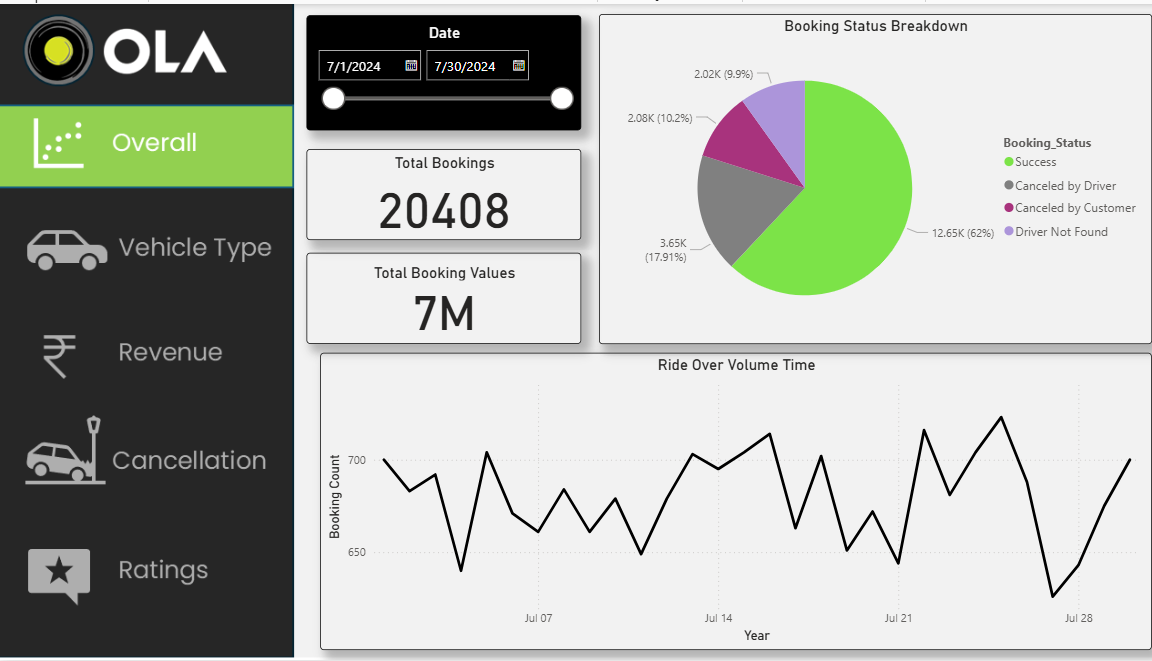

The dashboard page shown, as its layout file describes it:
{"tool":"powerbi","page":{"name":"Overall","canvas":[1280,720],"ordinal":0},"visuals":[{"type":"actionButton","box":[0,203.7,325.3,111.2],"z":0},{"type":"actionButton","box":[0,331.5,325.3,101.8],"z":1000},{"type":"actionButton","box":[0,450,325.3,115.4],"z":2000},{"type":"actionButton","box":[0,565.4,325.3,112.2],"z":3000},{"type":"lineChart","title":"Ride Over Volume Time","fields":{"Y":["CountNonNull(July.Booking_ID)"],"Category":["July.Date.Variation.Date Hierarchy.Year","July.Date.Variation.Date Hierarchy.Quarter","July.Date.Variation.Date Hierarchy.Month","July.Date.Variation.Date Hierarchy.Day"]},"box":[352.3,382.6,912.8,326.7],"z":4000},{"type":"pieChart","title":"Booking Status Breakdown","fields":{"Category":["July.Booking_Status"],"Y":["CountNonNull(July.Booking_Status)"]},"box":[658.1,10.5,607,362.8],"z":5000},{"type":"slicer","title":"Date","fields":{"Values":["July.Date"]},"box":[337.6,12.3,301.9,126.2],"z":6000},{"type":"card","title":"Total Bookings","fields":{"Values":["Count(July.Booking_ID)"]},"box":[337.6,159.2,301.9,100.2],"z":7000},{"type":"card","title":" Total Booking Values","fields":{"Values":["Sum(July.Booking_Value)"]},"box":[337.6,273.1,301.9,100.2],"z":8000}]}

Visuals, with their boxes in screenshot pixels (x1, y1, x2, y2), scaled from the page's 1280x720 canvas onto the 1152x661 screenshot:
actionButton: [0, 187, 293, 289]
actionButton: [0, 304, 293, 398]
actionButton: [0, 413, 293, 519]
actionButton: [0, 519, 293, 622]
"Ride Over Volume Time" lineChart: [317, 351, 1139, 651]
"Booking Status Breakdown" pieChart: [592, 10, 1139, 343]
"Date" slicer: [304, 11, 576, 127]
"Total Bookings" card: [304, 146, 576, 238]
" Total Booking Values" card: [304, 251, 576, 343]
